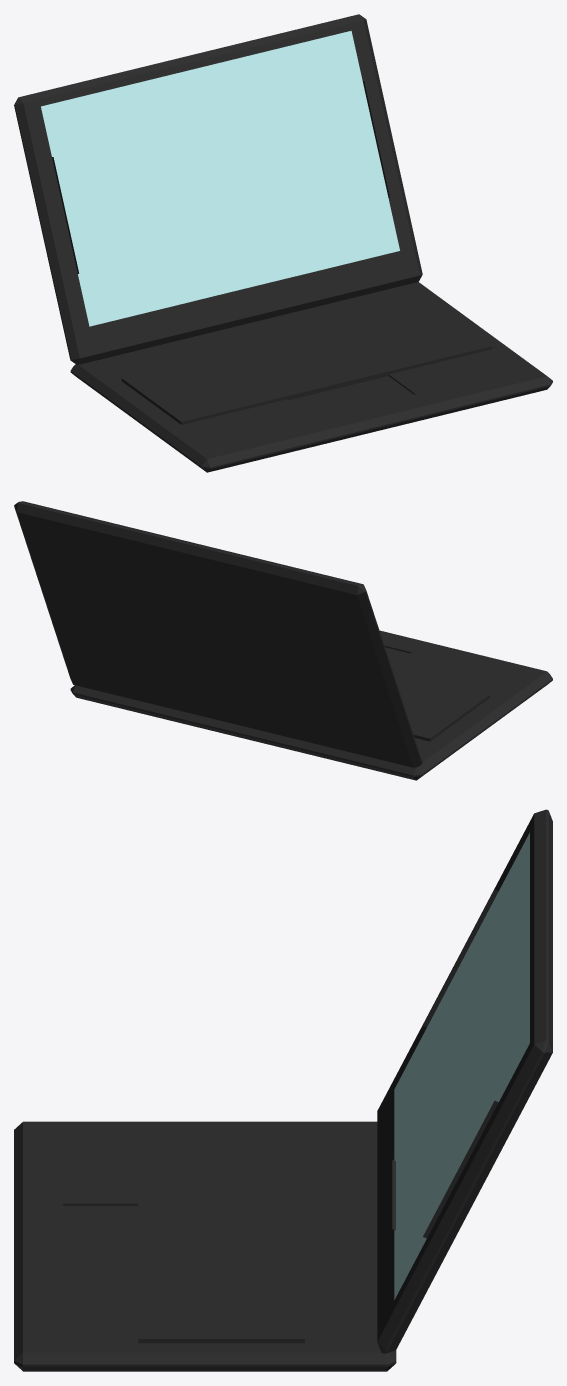
Rendered from laptop.fbx.
The picture shows the model from 3 angles, top to bottom: view 1: azimuth 30°, elevation 25°; view 2: azimuth 150°, elevation 25°; view 3: azimuth 270°, elevation 25°; orthographic projection. The views are drawn at different scales.
Visible parts, largest first — view 1: screen, keyboard, laptop; view 2: laptop, keyboard; view 3: keyboard, screen, laptop.
Boxes of the visible parts, left/top/right/bottom form: screen: left=41, top=30, right=399, bottom=326; keyboard: left=70, top=282, right=552, bottom=472; laptop: left=14, top=14, right=422, bottom=364; laptop: left=14, top=501, right=422, bottom=767; keyboard: left=70, top=630, right=552, bottom=780; keyboard: left=14, top=1121, right=396, bottom=1371; screen: left=394, top=832, right=529, bottom=1299; laptop: left=377, top=809, right=552, bottom=1353.
Size of the model in its own units: 122 by 78.96 by 117.
